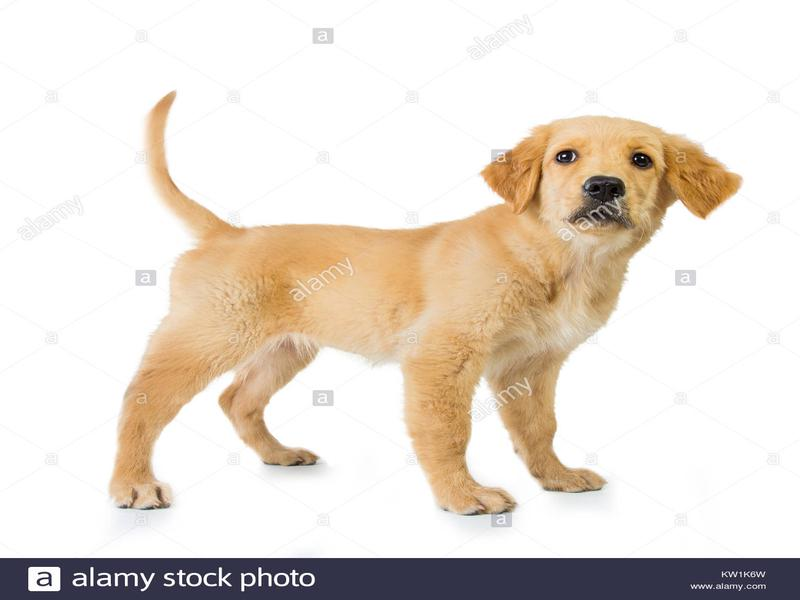dog_stand: (103, 89, 743, 518)
